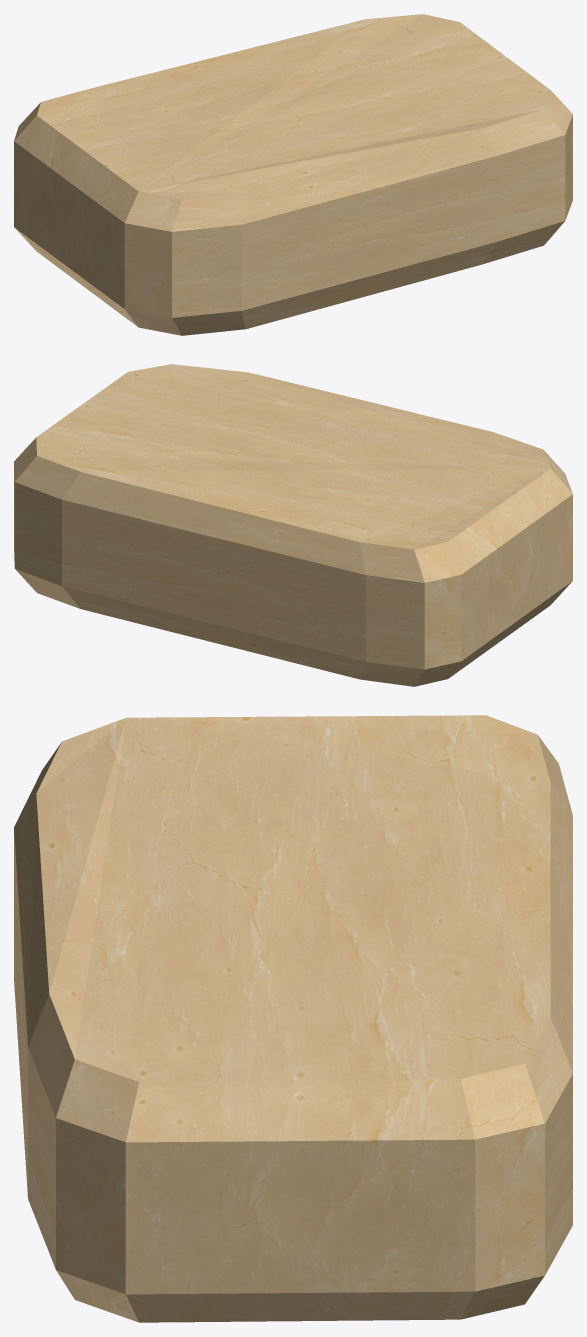
The model's file is soap.obj.
3 views of the same model, one above another, from view 1: azimuth 30°, elevation 25°; view 2: azimuth 150°, elevation 25°; view 3: azimuth 270°, elevation 25° (orthographic). The views are drawn at different scales.
Visible parts, largest first — view 1: bar; view 2: bar; view 3: bar.
Boxes of the visible parts, x1,y1,x2,y2 form: bar: (14, 14, 572, 335); bar: (14, 364, 572, 686); bar: (14, 715, 572, 1322).
Bounding box in the file's own units: 114 × 33.92 × 69.09.
Materials: 1 (1 with a texture image).
